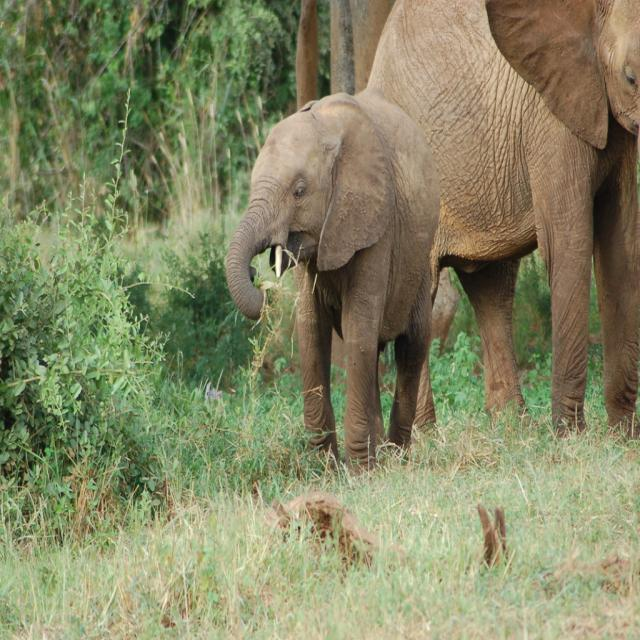elephant: (361, 0, 639, 436), (224, 95, 434, 478)
